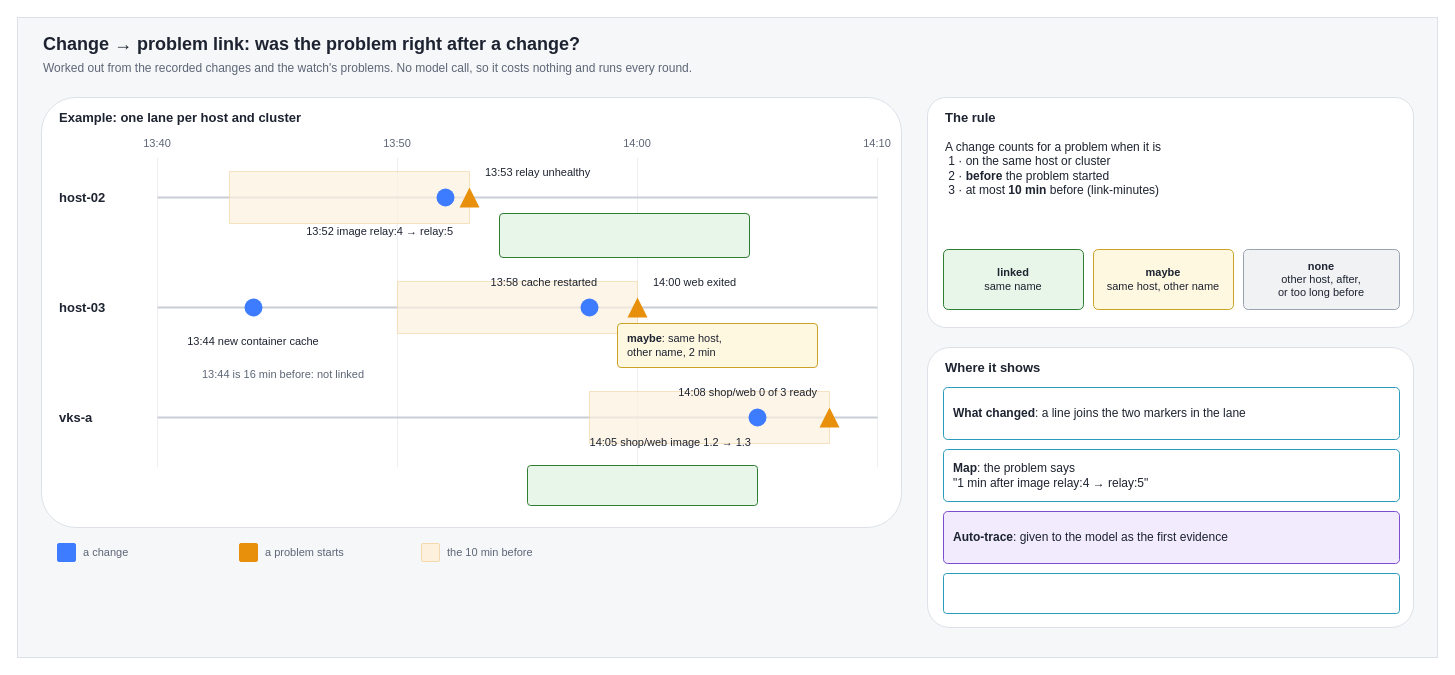
Some shapes in this 1455 by 675 pixel diagram are drawn without their labels. Here are the shapes that lost their labels. From the top down, the box of each, then its label:
(498, 212, 750, 258): linked : same container, 1 min after
(526, 464, 758, 506): linked : same workload, 3 min
(942, 572, 1400, 614): Console : ▲ relay unhealthy ← image relay:5
